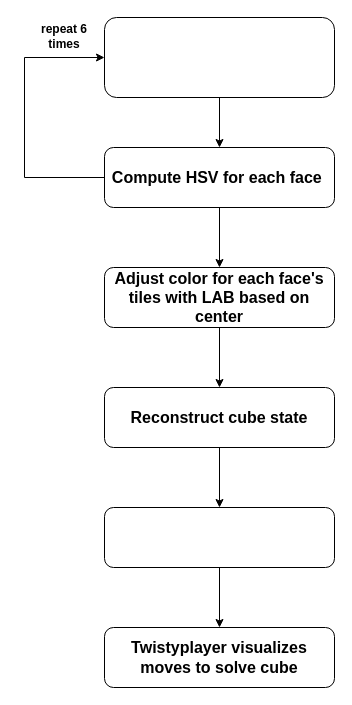
Image size: 352x705. Some labels were removed from this diagram. The centre of each missing label's shape, as x and y in pixels:
Compute moves to solved cube using Kociemba: [219,537]
Scan Face: [219,57]
